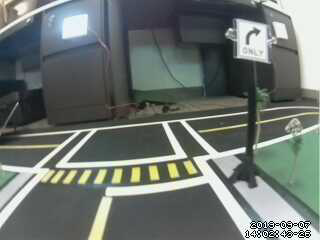Right_only_sign: (233, 16, 268, 59)
